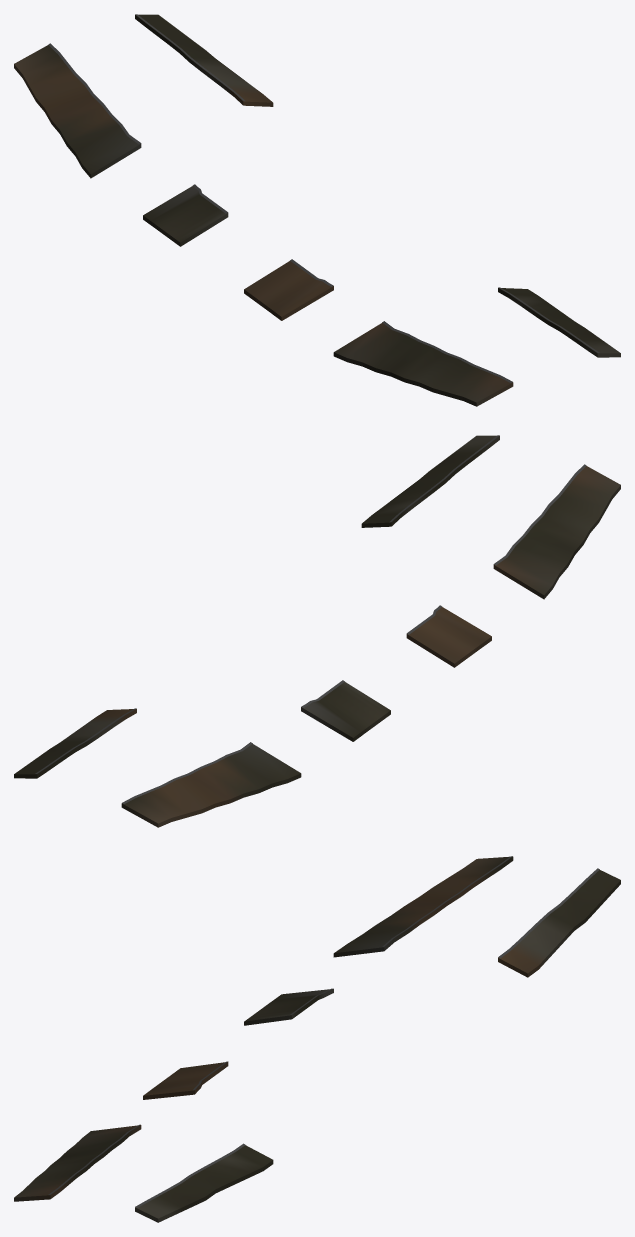
File: fh_mech_bomber_t1.glb
3 renders of one model, top to bottom at view 1: azimuth 30°, elevation 25°; view 2: azimuth 150°, elevation 25°; view 3: azimuth 330°, elevation 25°, orthographic.
Parts seen in each view (by area): view 1: flap_l, flap_r, slat_l, slat_r; view 2: flap_r, flap_l, slat_r, slat_l; view 3: flap_l, flap_r, slat_l, slat_r.
Part boxes in pixels (x1,y1,x2,y2): flap_l: (14,43,228,246); flap_r: (244,259,513,406); slat_l: (135,14,273,106); slat_r: (498,287,620,357); flap_r: (406,464,620,667); flap_l: (121,680,390,827); slat_r: (361,435,499,527); slat_l: (14,708,136,778); flap_l: (244,856,513,1025); flap_r: (14,1061,228,1201); slat_l: (498,868,620,977); slat_r: (135,1143,273,1222).
Bounding box in the file's own units: 0.1885 × 0.047 × 0.8.
